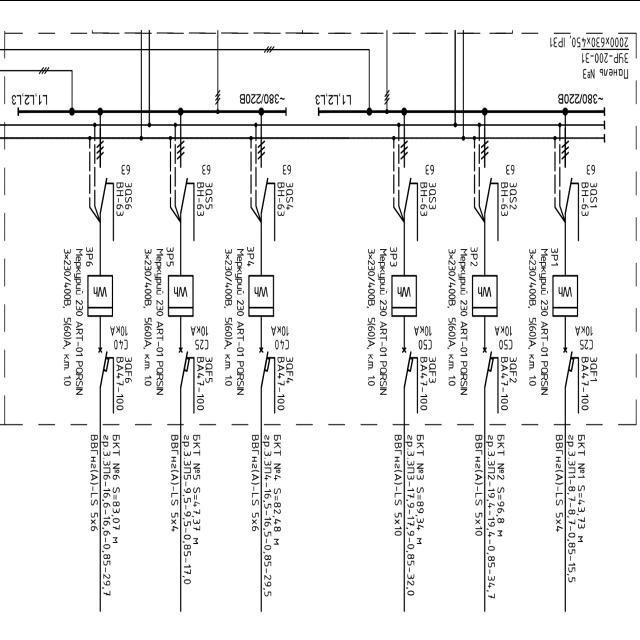-: (528, 244, 560, 391), (222, 242, 246, 396), (60, 244, 84, 396), (446, 242, 469, 394), (365, 245, 388, 395), (144, 245, 164, 396), (547, 32, 629, 64), (274, 352, 286, 413), (193, 354, 206, 410), (412, 321, 434, 352), (572, 322, 594, 352), (269, 322, 291, 352), (498, 353, 509, 412), (492, 323, 516, 350), (418, 352, 428, 414), (189, 323, 211, 351), (108, 322, 129, 351), (580, 354, 590, 412), (114, 354, 124, 412), (418, 180, 431, 218), (579, 179, 591, 217), (112, 180, 124, 218), (195, 178, 205, 218), (276, 178, 286, 217), (499, 178, 508, 216), (119, 162, 131, 175), (200, 162, 212, 175), (586, 162, 598, 175), (280, 162, 292, 175), (424, 162, 436, 175), (504, 162, 516, 174)
QF: (97, 344, 109, 388), (562, 342, 574, 386), (178, 344, 190, 388), (258, 344, 270, 388), (401, 345, 413, 389), (482, 346, 494, 390)
QS: (479, 140, 494, 210), (560, 138, 574, 210), (400, 140, 413, 212), (257, 138, 270, 208), (96, 138, 108, 212), (175, 139, 187, 211)
WH: (86, 270, 114, 318), (167, 272, 195, 318), (390, 271, 418, 317), (471, 271, 498, 318), (248, 272, 276, 317), (552, 271, 578, 317)
